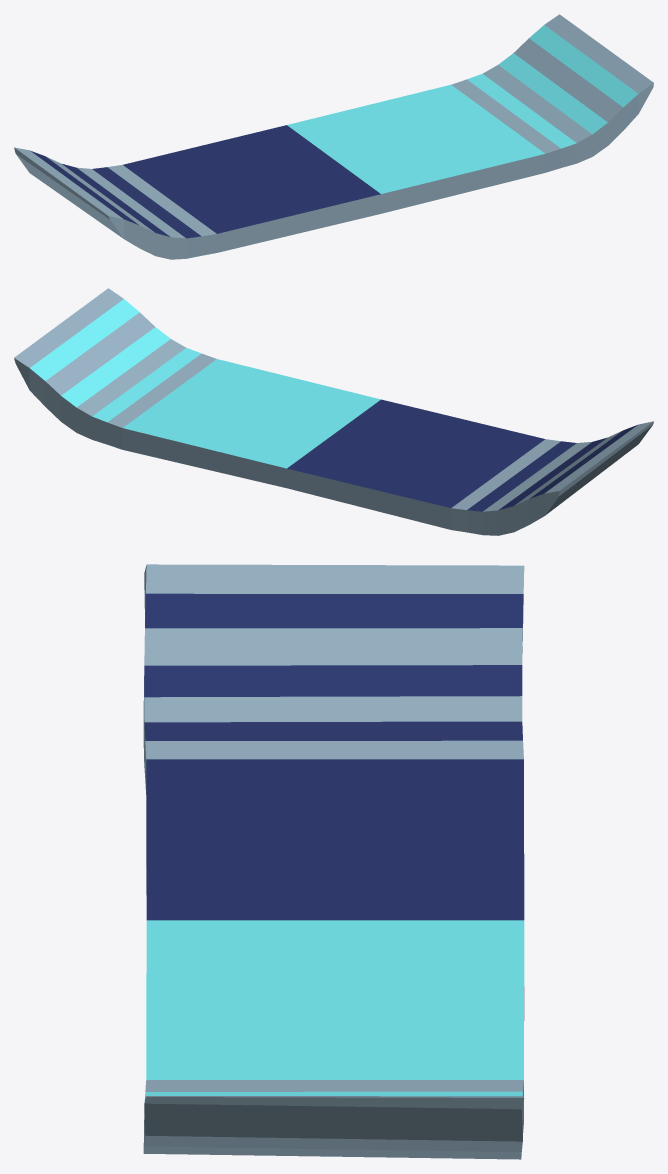
File: SnoubordMesh.fbx
3 renders of one model, top to bottom at view 1: azimuth 30°, elevation 25°; view 2: azimuth 150°, elevation 25°; view 3: azimuth 270°, elevation 25°, orthographic. The views are drawn at different scales.
Visible parts, largest first — view 1: Куб; view 2: Куб; view 3: Куб.
Boxes of the visible parts, x1=… form: Куб: x1=14, y1=14, x2=653, y2=259; Куб: x1=14, y1=288, x2=653, y2=535; Куб: x1=143, y1=564, x2=524, y2=1159.
Size of the model in its own units: 101 by 38.69 by 334.
